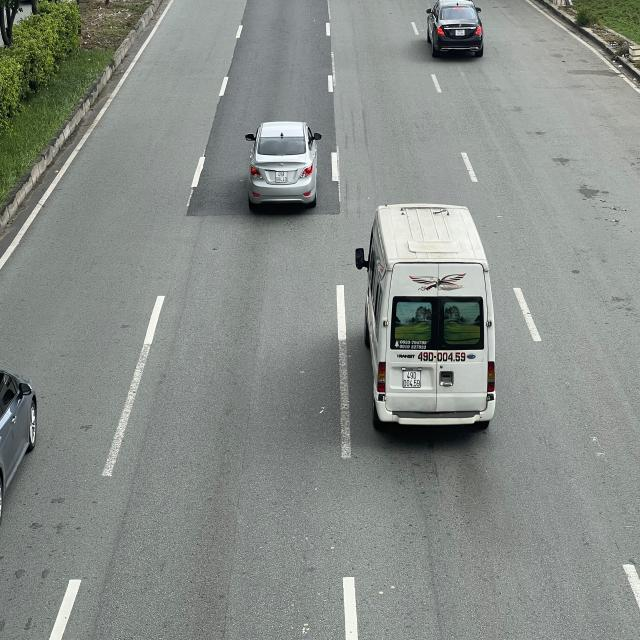car: (244, 120, 324, 208), (427, 0, 484, 61)
van: (355, 202, 497, 439)
